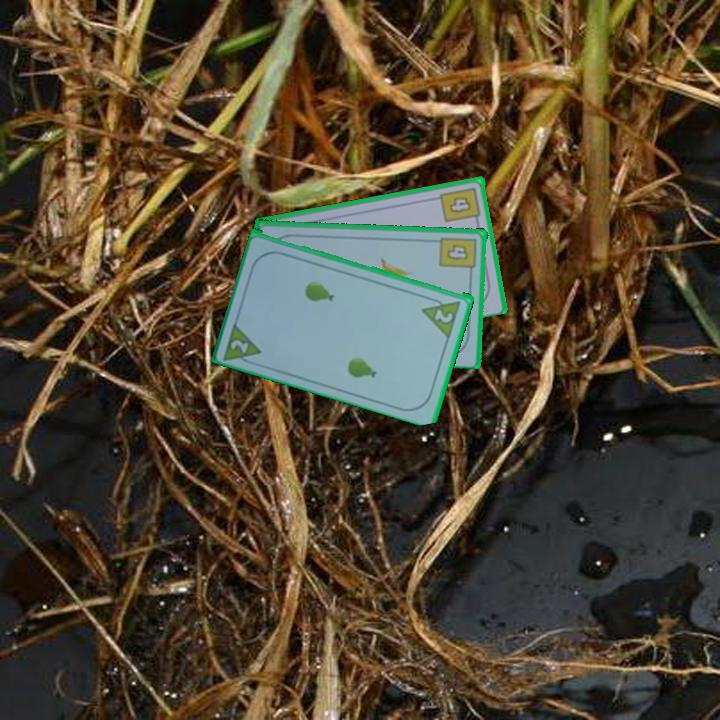2p: (220, 317, 265, 368), (431, 305, 456, 326)
4b: (437, 183, 484, 226), (437, 233, 480, 277)
